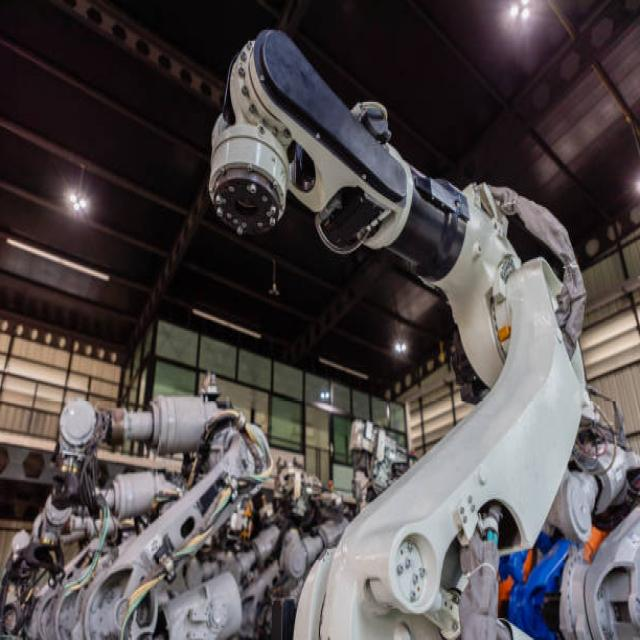Robotic-arm: (202, 20, 600, 640), (52, 368, 260, 613)
